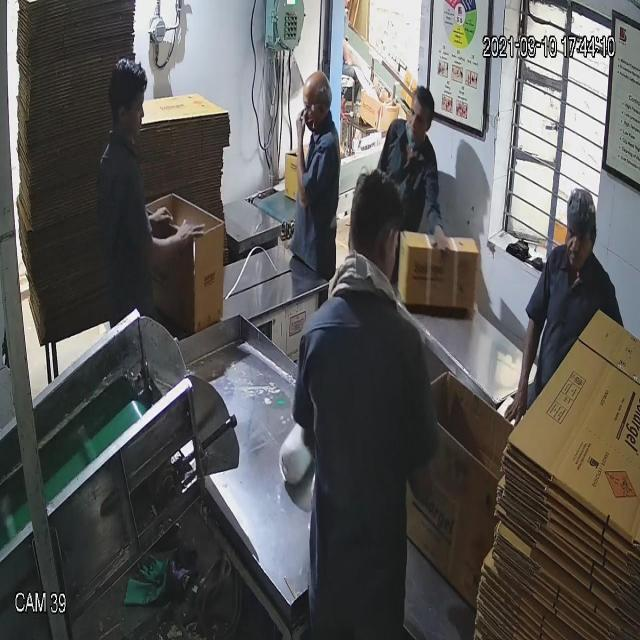No_Gloves: (24, 53, 523, 365)
